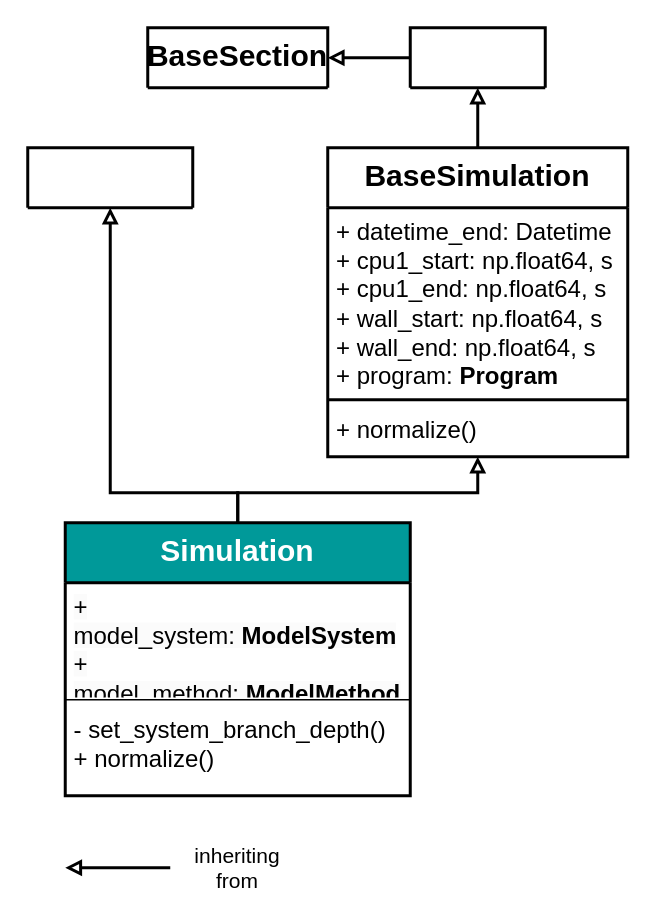
The diagram is 654 pixels wide and 917 high, and some of its shapes have lost their labels. Each missing label, with the box of its shape:
Activity: (408, 26, 546, 88)
EntryData: (26, 146, 194, 208)
